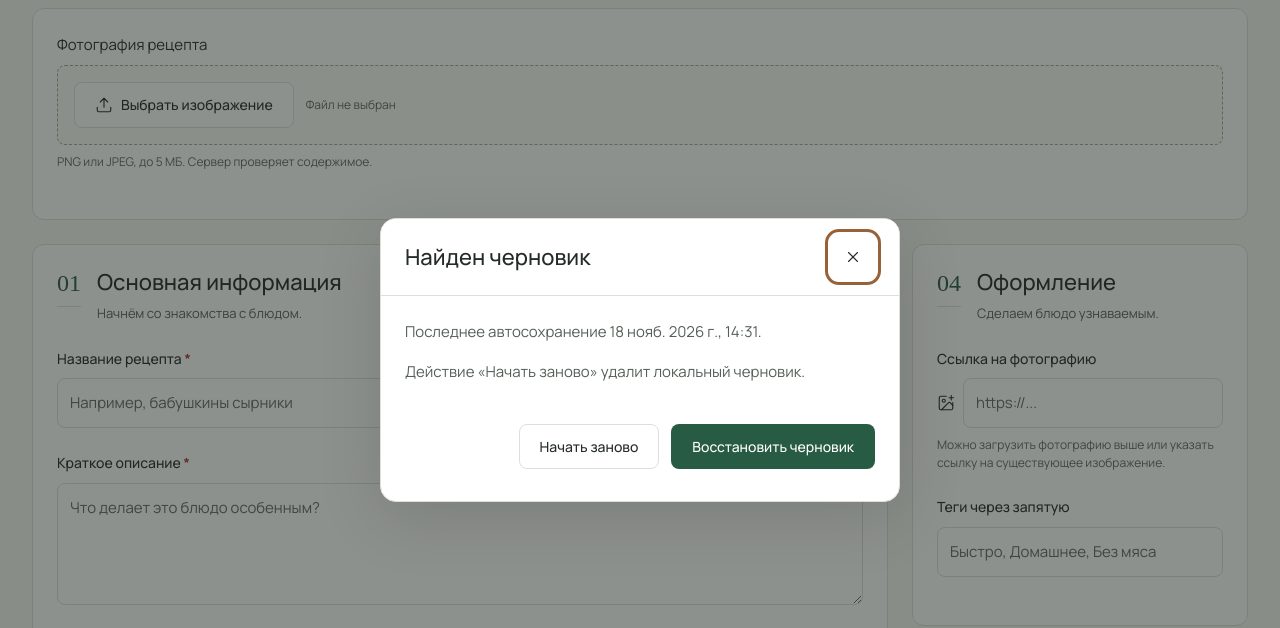
Test case: хранит признак нового фото без файла, object URL и приватной ссылки
The width and height of the screenshot is (1280, 628).
Earlier steps of the test are not shown.
Later steps or results of the test are not shown.
(page scrolled)
Click the button "Восстановить черновик": (773, 446) [671,424,875,469]
(page scrolled)
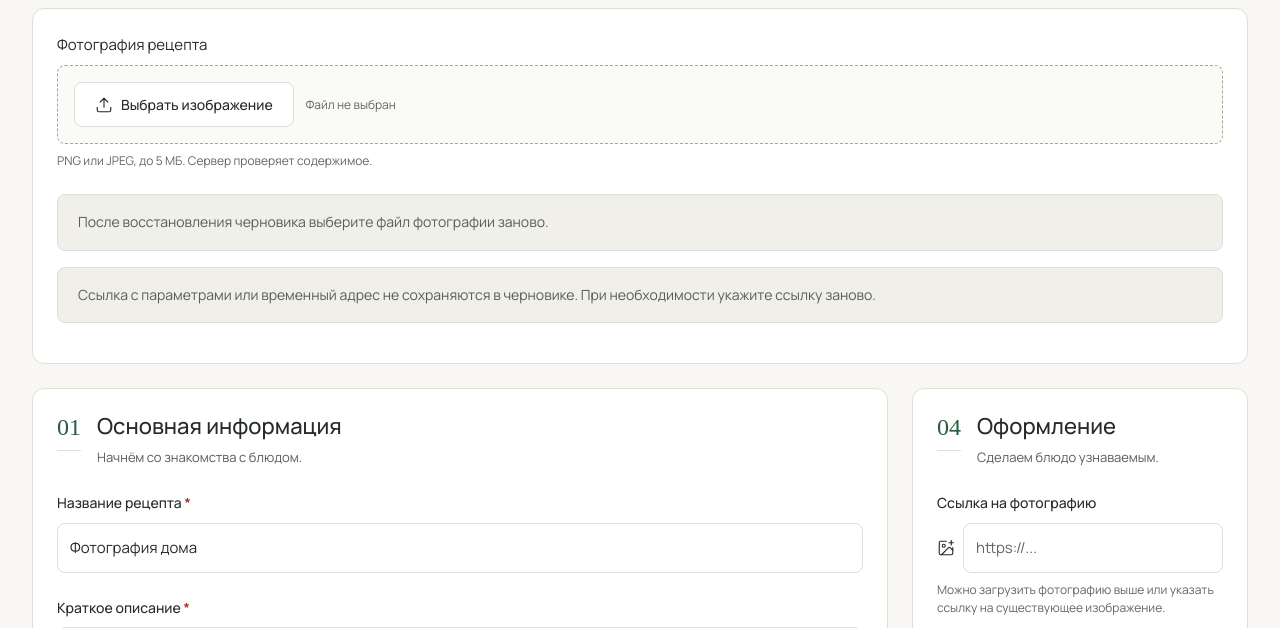
Expected: the field labelled "Ссылка на фотографию" is empty, [963,523,1223,573]
Now the text "выберите файл фотографии заново" is shown, box [78,212,548,231]
